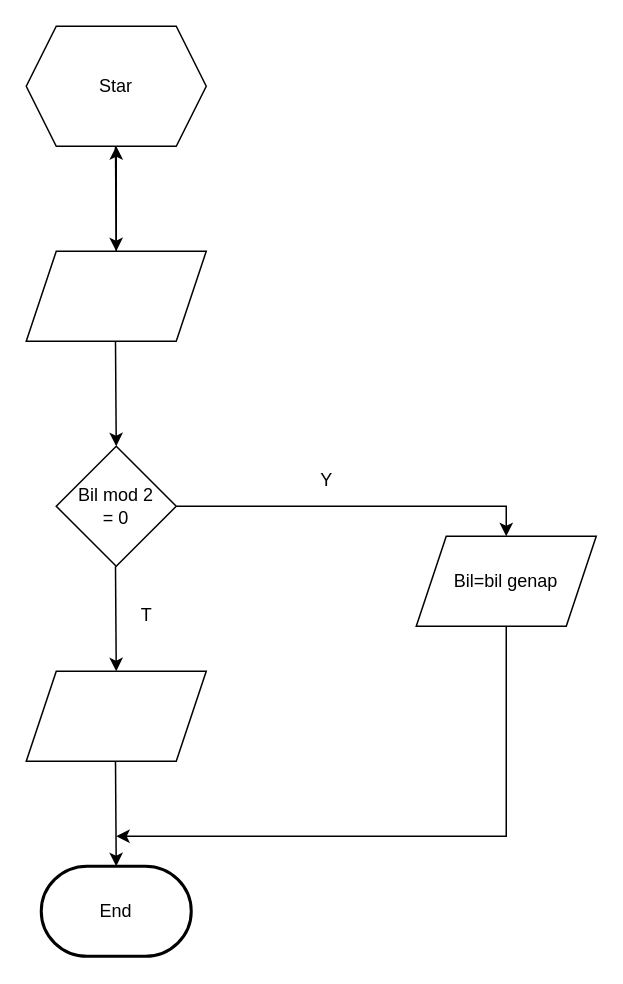
This 623x984 diagram has some shape labels left out. The centre of each missing label's shape, as x and y in pixels:
Bil=bil ganjil: the point at 115,715
Bilangan: the point at 115,295
